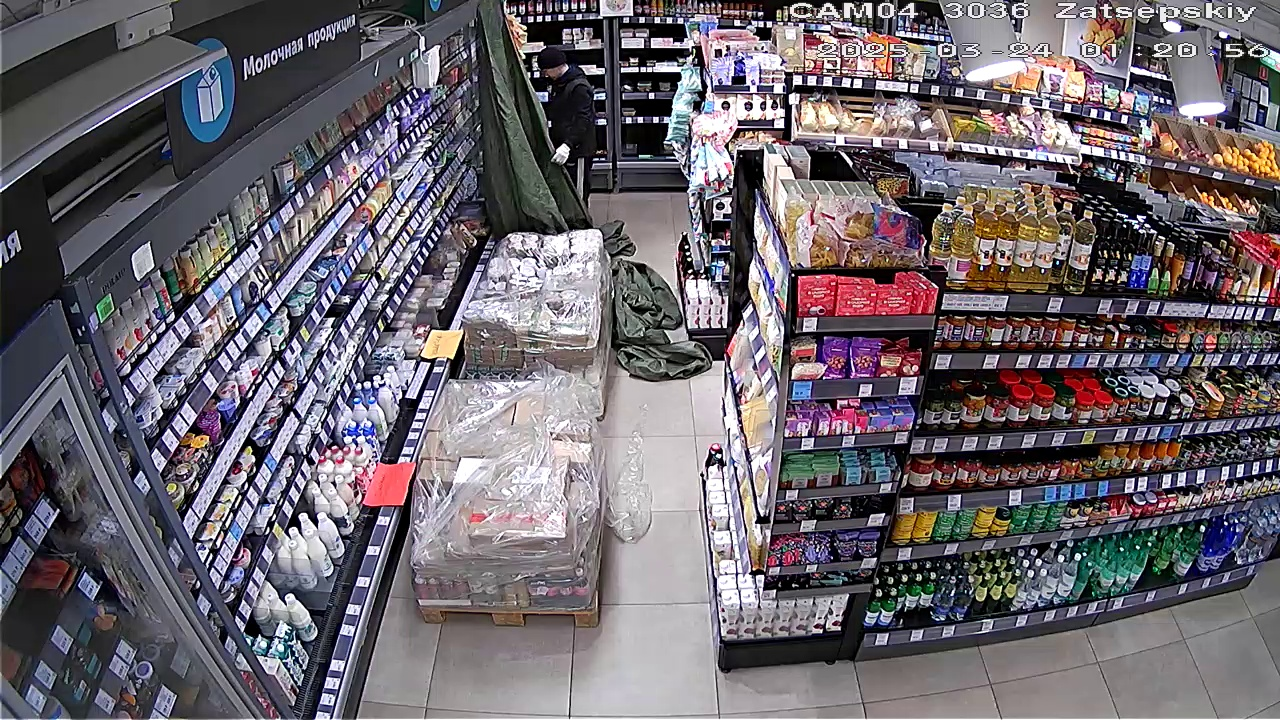Human: (523, 36, 603, 207)
pallet: (411, 370, 605, 621), (467, 226, 603, 372)
